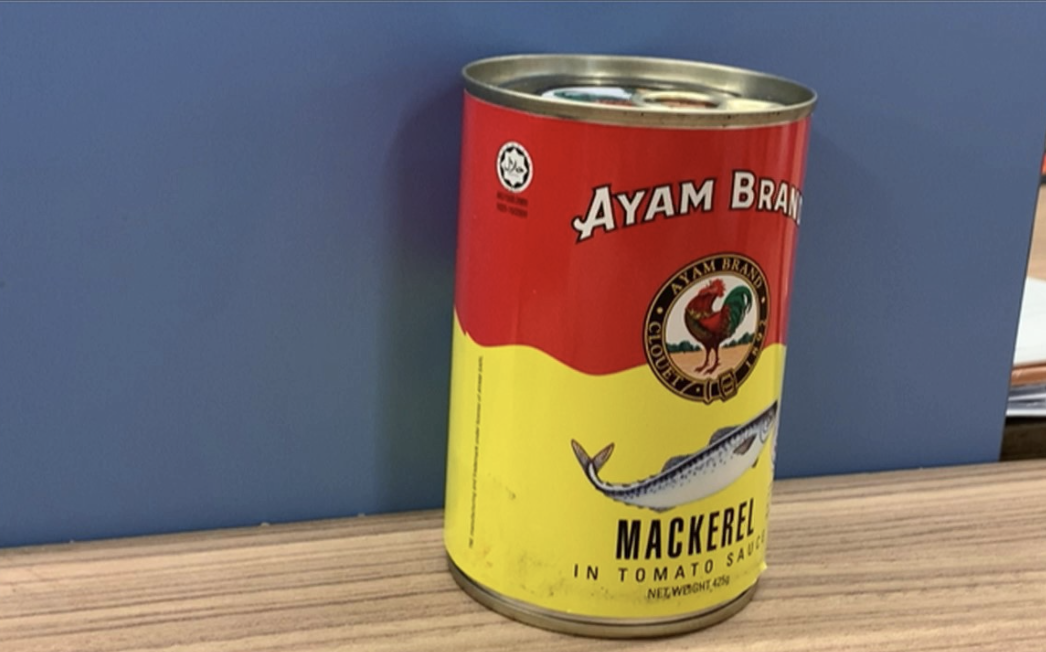sardines_450g: (471, 110, 773, 591)
